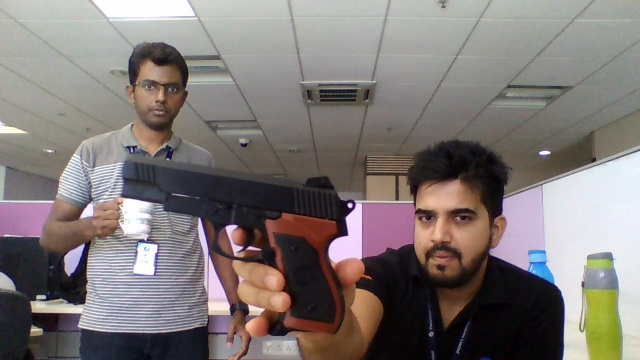gun: (120, 153, 350, 253)
